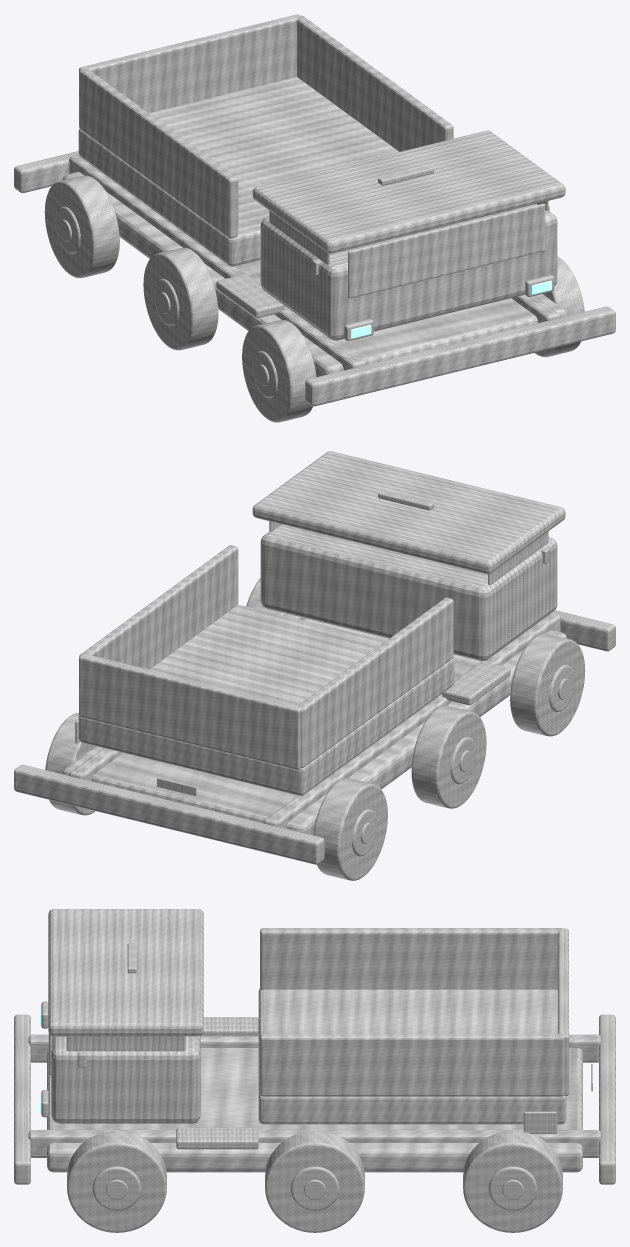
The model's file is truck_variant_a.glb.
3 renders of one model, top to bottom at view 1: azimuth 30°, elevation 25°; view 2: azimuth 150°, elevation 25°; view 3: azimuth 270°, elevation 25°, orthographic.
Visible parts, largest first — view 1: Cargo bed, Cab roof, Cab lower shell.001, Tailgate, Cargo side wall.001, Heavy ladder frame, Wide windshield, Front bumper, Cargo side wall, Heavy all-terrain tire.004, Heavy all-terrain tire.002, Heavy all-terrain tire (+9 smaller); view 2: Cargo bed, Cab lower shell.001, Cab roof, Tailgate, Heavy ladder frame, Cargo side wall.001, Rear bumper, Cargo side wall, Heavy all-terrain tire, Heavy all-terrain tire.002, Heavy all-terrain tire.004, Longitudinal frame rail (+8 smaller); view 3: Cargo bed, Cab roof, Cargo side wall, Cargo side wall.001, Heavy ladder frame, Cab lower shell.001, Heavy all-terrain tire.003, Heavy all-terrain tire.001, Heavy all-terrain tire.005, Longitudinal frame rail.001, Front bumper, Rear bumper (+9 smaller).
Boxes of the visible parts, bbox=[...] form: Cargo bed: bbox=[78, 77, 398, 266]; Cab roof: bbox=[252, 130, 565, 253]; Cab lower shell.001: bbox=[260, 203, 557, 340]; Tailgate: bbox=[79, 14, 300, 125]; Cargo side wall.001: bbox=[79, 68, 238, 238]; Heavy ladder frame: bbox=[63, 171, 567, 376]; Wide windshield: bbox=[348, 203, 545, 298]; Front bumper: bbox=[305, 306, 615, 406]; Cargo side wall: bbox=[297, 15, 453, 151]; Heavy all-terrain tire.004: bbox=[44, 175, 119, 278]; Heavy all-terrain tire.002: bbox=[143, 247, 218, 350]; Heavy all-terrain tire: bbox=[242, 320, 316, 422]; Cargo bed: bbox=[78, 604, 454, 795]; Cab lower shell.001: bbox=[260, 524, 557, 660]; Cab roof: bbox=[252, 451, 565, 574]; Tailgate: bbox=[79, 654, 300, 769]; Heavy ladder frame: bbox=[62, 613, 566, 835]; Cargo side wall.001: bbox=[298, 597, 453, 767]; Rear bumper: bbox=[14, 764, 324, 864]; Cargo side wall: bbox=[79, 545, 238, 669]; Heavy all-terrain tire: bbox=[510, 633, 585, 736]; Heavy all-terrain tire.002: bbox=[411, 706, 486, 808]; Heavy all-terrain tire.004: bbox=[313, 778, 387, 880]; Longitudinal frame rail: bbox=[263, 613, 560, 828]; Cargo bed: bbox=[258, 988, 566, 1124]; Cab roof: bbox=[48, 909, 203, 1036]; Cargo side wall: bbox=[260, 1033, 564, 1096]; Cargo side wall.001: bbox=[260, 928, 562, 989]; Heavy ladder frame: bbox=[47, 1048, 582, 1172]; Cab lower shell.001: bbox=[51, 1036, 200, 1123]; Heavy all-terrain tire.003: bbox=[265, 1131, 364, 1232]; Heavy all-terrain tire.001: bbox=[67, 1131, 166, 1232]; Heavy all-terrain tire.005: bbox=[463, 1131, 562, 1232]; Longitudinal frame rail.001: bbox=[28, 1130, 601, 1157]; Front bumper: bbox=[14, 1014, 30, 1184]; Rear bumper: bbox=[599, 1014, 615, 1184].
Size of what is drawn, in the model's own units: 5.8 by 3.73 by 9.88.
Materials: 8 (8 with a texture image).
